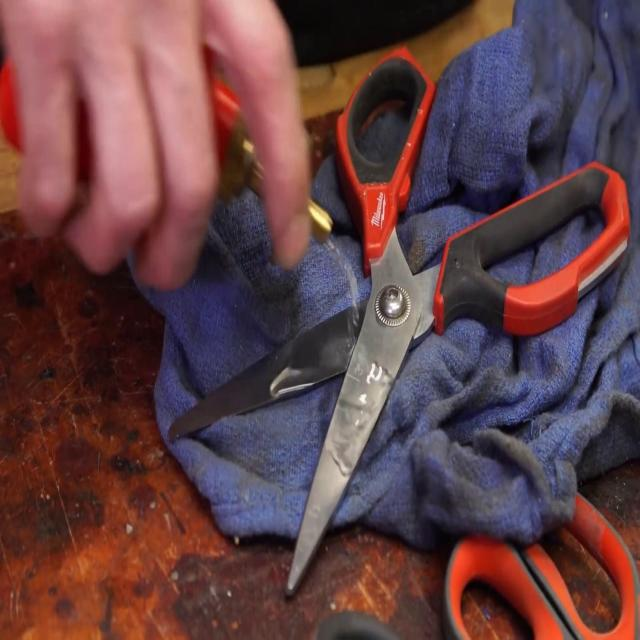scissor: (167, 43, 629, 599)
